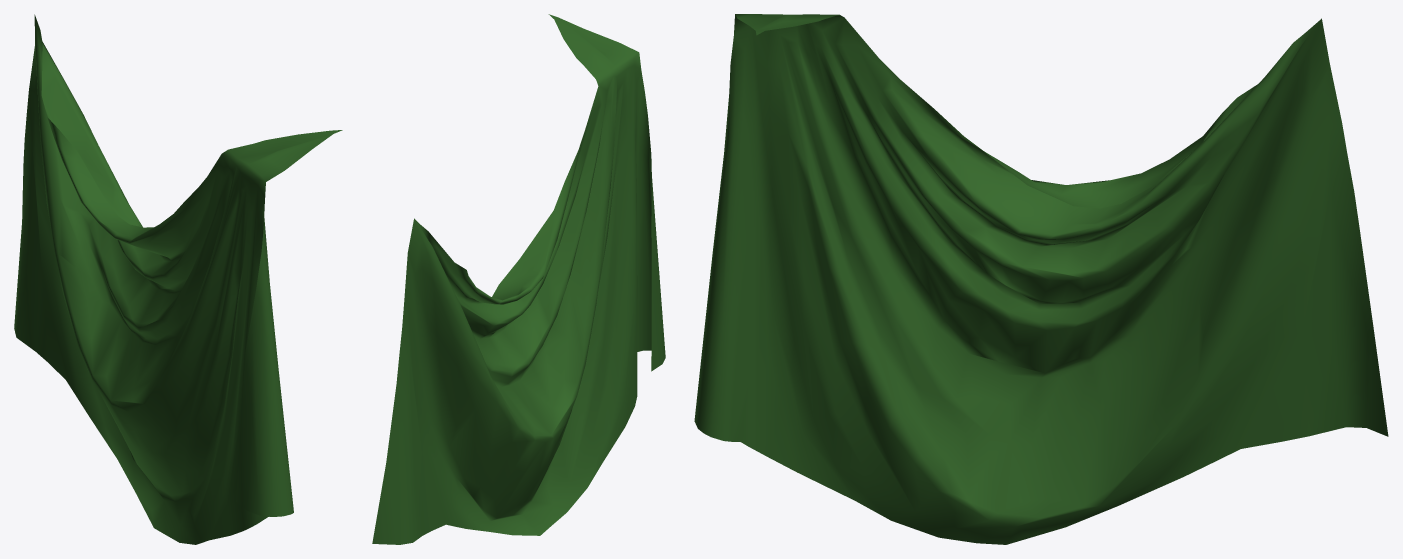
File: Tarp_LP.fbx
3 views of the same model, side by side, from view 1: azimuth 30°, elevation 25°; view 2: azimuth 150°, elevation 25°; view 3: azimuth 270°, elevation 25° (orthographic). The views are drawn at different scales.
Visible parts, largest first — view 1: Plane.005; view 2: Plane.005; view 3: Plane.005.
Part boxes in pixels (bbox=[...]): Plane.005: bbox=[14, 14, 342, 544]; Plane.005: bbox=[372, 14, 665, 544]; Plane.005: bbox=[694, 14, 1388, 544].
Bounding box in the file's own units: 1.52 × 5.49 × 6.11.
